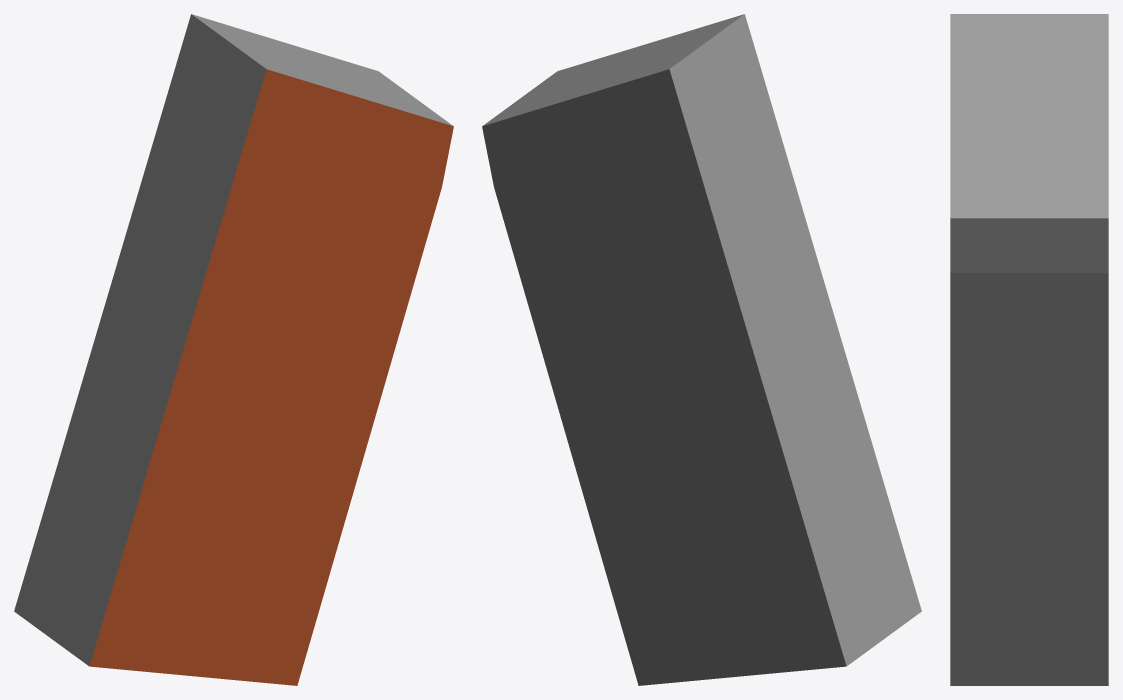
Rendered from construction_4392_assumed_A_Casa_h6m.obj.
The picture shows the model from 3 angles, left to right: view 1: azimuth 30°, elevation 25°; view 2: azimuth 150°, elevation 25°; view 3: azimuth 270°, elevation 25°; orthographic projection. The views are drawn at different scales.
Parts seen in each view (by area): view 1: construction_4392_assumed_A_Casa; view 2: construction_4392_assumed_A_Casa; view 3: construction_4392_assumed_A_Casa.
Part boxes in pixels (box(x1,y1,x2,y2)): construction_4392_assumed_A_Casa: box(14, 14, 453, 685); construction_4392_assumed_A_Casa: box(482, 14, 921, 685); construction_4392_assumed_A_Casa: box(950, 14, 1108, 685).
Bounding box in the file's own units: 16.76 × 27.43 × 6.
